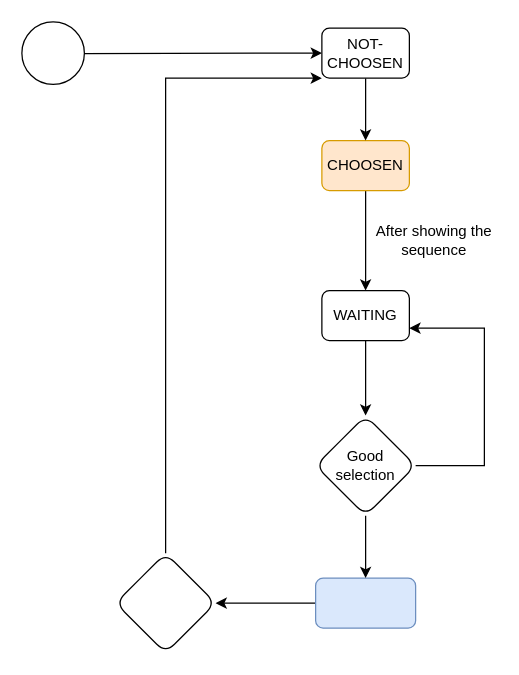
Image size: 519x675. Some labels were removed from this diagram. Each missing label, with the centre of its shape:
"COMPLETED" goes at (x=365, y=602).
"Next Round" goes at (x=165, y=602).
